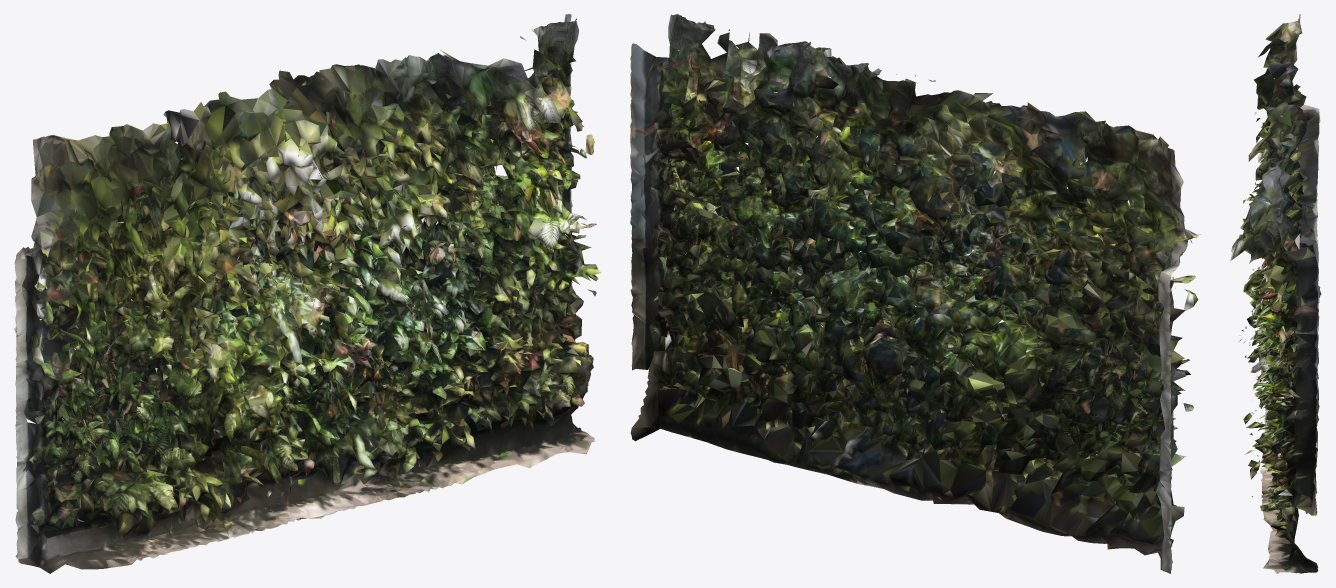
The model's file is living_wall.glb.
3 renders of one model, left to right at view 1: azimuth 30°, elevation 25°; view 2: azimuth 150°, elevation 25°; view 3: azimuth 270°, elevation 25°, orthographic. The views are drawn at different scales.
Parts seen in each view (by area): view 1: Stereo textured mesh; view 2: Stereo textured mesh; view 3: Stereo textured mesh.
Part boxes in pixels (<box>): Stereo textured mesh: <box>14,14,600,573</box>; Stereo textured mesh: <box>630,14,1200,573</box>; Stereo textured mesh: <box>1230,14,1321,573</box>.
Bounding box in the file's own units: 1 × 0.7552 × 0.1756.
Materials: 1 (1 with a texture image).
